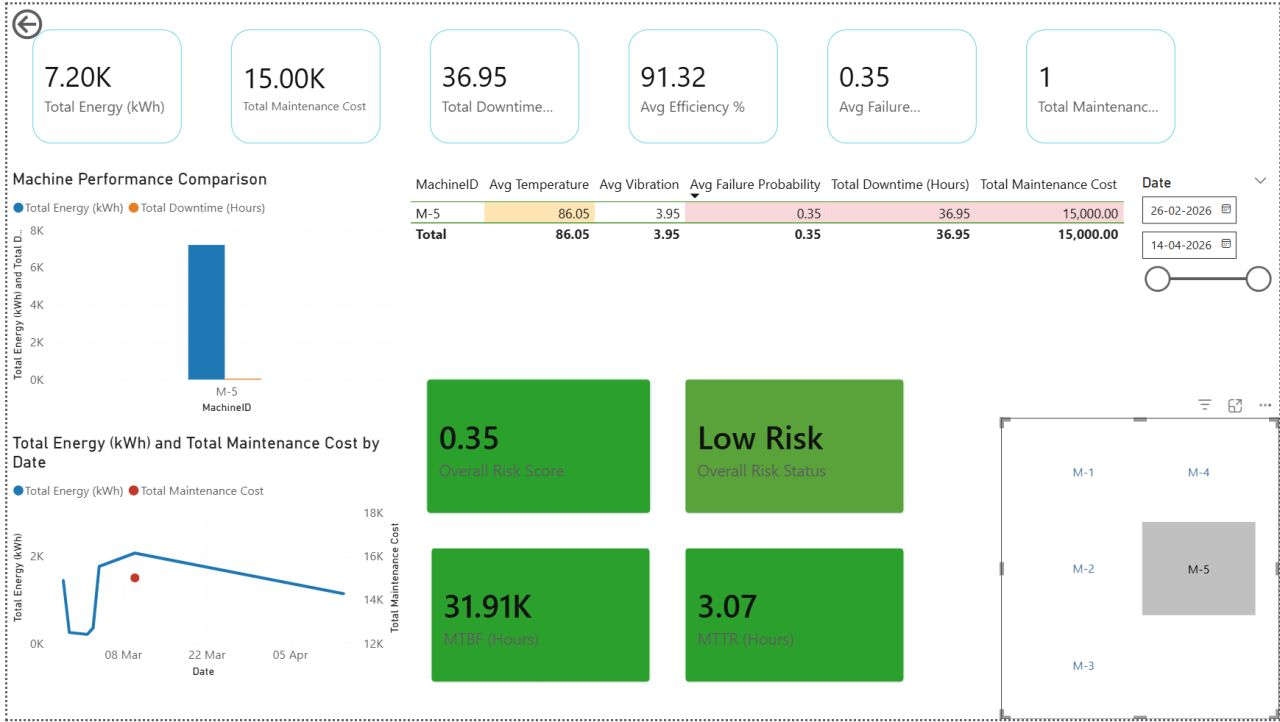

The page's visual inventory and layout, read from the dashboard file:
{"tool":"powerbi","page":{"name":"Executive Summary","canvas":[1280,720],"ordinal":3},"visuals":[{"type":"cardVisual","fields":{"Data":["_Measures.Total Energy (kWh)"]},"box":[0,0,200,165.6],"z":0},{"type":"cardVisual","fields":{"Data":["_Measures.Total Maintenance Cost"]},"box":[200,0,200,165.6],"z":1000},{"type":"cardVisual","fields":{"Data":["_Measures.Total Downtime (Hours)"]},"box":[400,0,200,165.6],"z":2000},{"type":"cardVisual","fields":{"Data":["_Measures.Avg Efficiency %"]},"box":[600,0,200,165.6],"z":3000},{"type":"cardVisual","fields":{"Data":["_Measures.Avg Failure Probability"]},"box":[800,0,200,165.6],"z":4000},{"type":"cardVisual","fields":{"Data":["_Measures.Total Maintenance Events"]},"box":[1000,0,200,165.6],"z":5000},{"type":"clusteredColumnChart","title":"Machine Performance Comparison","fields":{"Category":["Machine_Dimension.MachineID"],"Y":["_Measures.Total Energy (kWh)","_Measures.Total Downtime (Hours)"]},"box":[0,165.6,400,251.1],"z":6000},{"type":"lineChart","fields":{"Category":["Date_Table.Date"],"Y":["_Measures.Total Energy (kWh)"],"Y2":["_Measures.Total Maintenance Cost"]},"box":[0,431.5,400,251],"z":7000},{"type":"tableEx","fields":{"Values":["Machine_Dimension.MachineID","_Measures.Avg Temperature","_Measures.Avg Vibration","_Measures.Avg Failure Probability","_Measures.Total Downtime (Hours)","_Measures.Total Maintenance Cost"]},"box":[400,165.6,728.9,168.9],"z":8000},{"type":"actionButton","box":[0,0,100,40],"z":9000},{"type":"cardVisual","fields":{"Data":["_Measures.Overall Risk Score"]},"box":[404.4,360,260,170],"z":10000},{"type":"cardVisual","fields":{"Data":["_Measures.Overall Risk Status"]},"box":[664.4,360,255.6,170],"z":11000},{"type":"slicer","fields":{"Values":["Date_Table.Date"]},"box":[1128.9,165.6,151.1,251.1],"z":12000},{"type":"slicer","fields":{"Values":["Machine_Dimension.MachineID"]},"box":[1000,416.7,280,303.3],"z":13000},{"type":"cardVisual","fields":{"Data":["_Measures.MTBF (Hours)"]},"box":[408.9,530,255.6,170],"z":14000},{"type":"cardVisual","fields":{"Data":["_Measures.MTTR (Hours)"]},"box":[664.4,530,255.6,170],"z":15000}]}

Visuals, with their boxes in screenshot pixels (x1, y1, x2, y2), scaled from the page's 1280x720 canvas onto the 1280x722 screenshot:
cardVisual - _Measures.Total Energy (kWh): 0/0/200/166
cardVisual - _Measures.Total Maintenance Cost: 200/0/400/166
cardVisual - _Measures.Total Downtime (Hours): 400/0/600/166
cardVisual - _Measures.Avg Efficiency %: 600/0/800/166
cardVisual - _Measures.Avg Failure Probability: 800/0/1000/166
cardVisual - _Measures.Total Maintenance Events: 1000/0/1200/166
"Machine Performance Comparison" clusteredColumnChart: 0/166/400/418
lineChart - Date_Table.Date x _Measures.Total Energy (kWh): 0/433/400/684
tableEx - Machine_Dimension.MachineID x _Measures.Avg Temperature: 400/166/1129/335
actionButton: 0/0/100/40
cardVisual - _Measures.Overall Risk Score: 404/361/664/531
cardVisual - _Measures.Overall Risk Status: 664/361/920/531
slicer - Date_Table.Date: 1129/166/1279/418
slicer - Machine_Dimension.MachineID: 1000/418/1279/721
cardVisual - _Measures.MTBF (Hours): 409/531/664/702
cardVisual - _Measures.MTTR (Hours): 664/531/920/702
